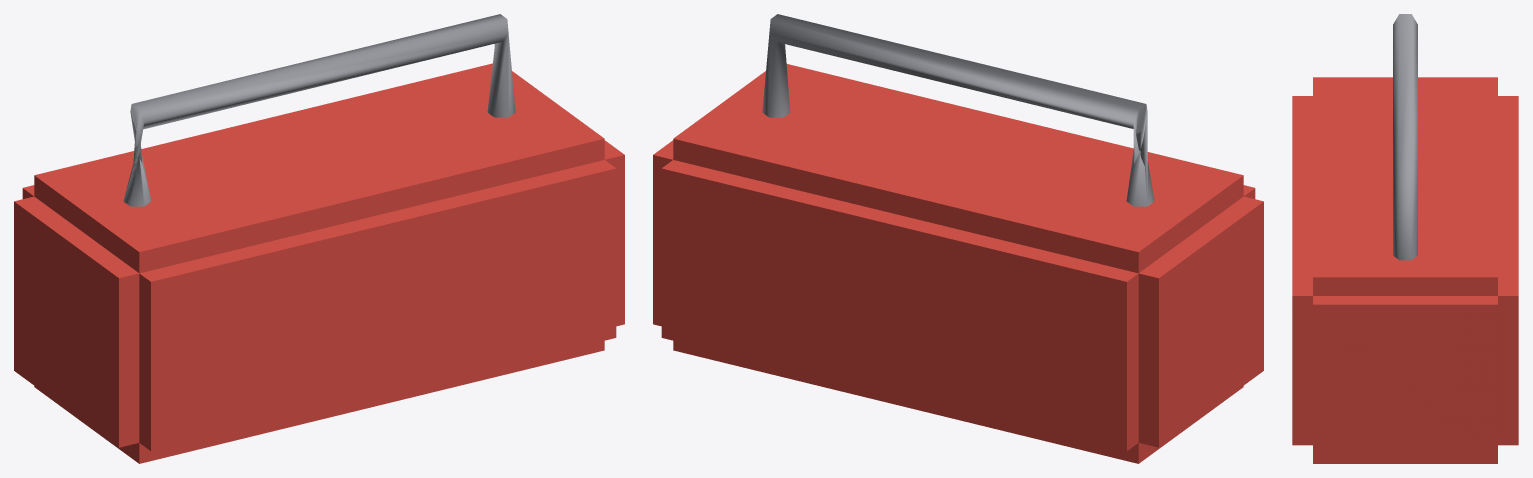
The model's file is toolbox.glb.
3 views of the same model, side by side, from view 1: azimuth 30°, elevation 25°; view 2: azimuth 150°, elevation 25°; view 3: azimuth 270°, elevation 25° (orthographic). The views are drawn at different scales.
Visible parts, largest first — view 1: toolbox; view 2: toolbox; view 3: toolbox.
Part boxes in pixels (x1=…): toolbox: x1=14, y1=14, x2=624, y2=463; toolbox: x1=653, y1=14, x2=1263, y2=463; toolbox: x1=1292, y1=14, x2=1518, y2=463.
Bounding box in the file's own units: 0.5 × 0.2901 × 0.22.
